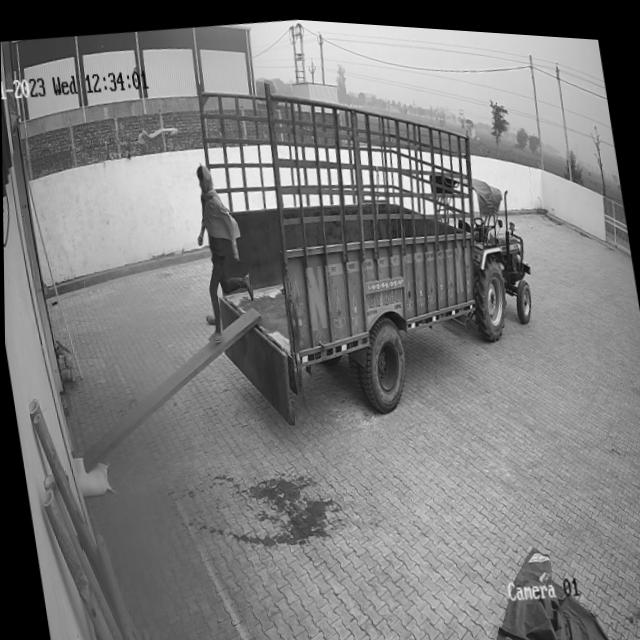sack: (70, 451, 111, 497)
